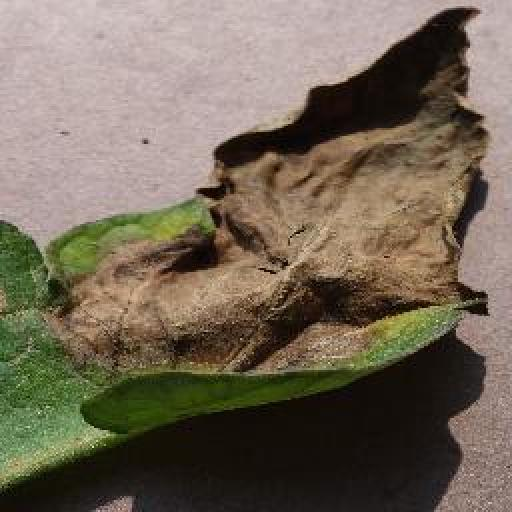disease_tomato: (0, 0, 488, 487)
